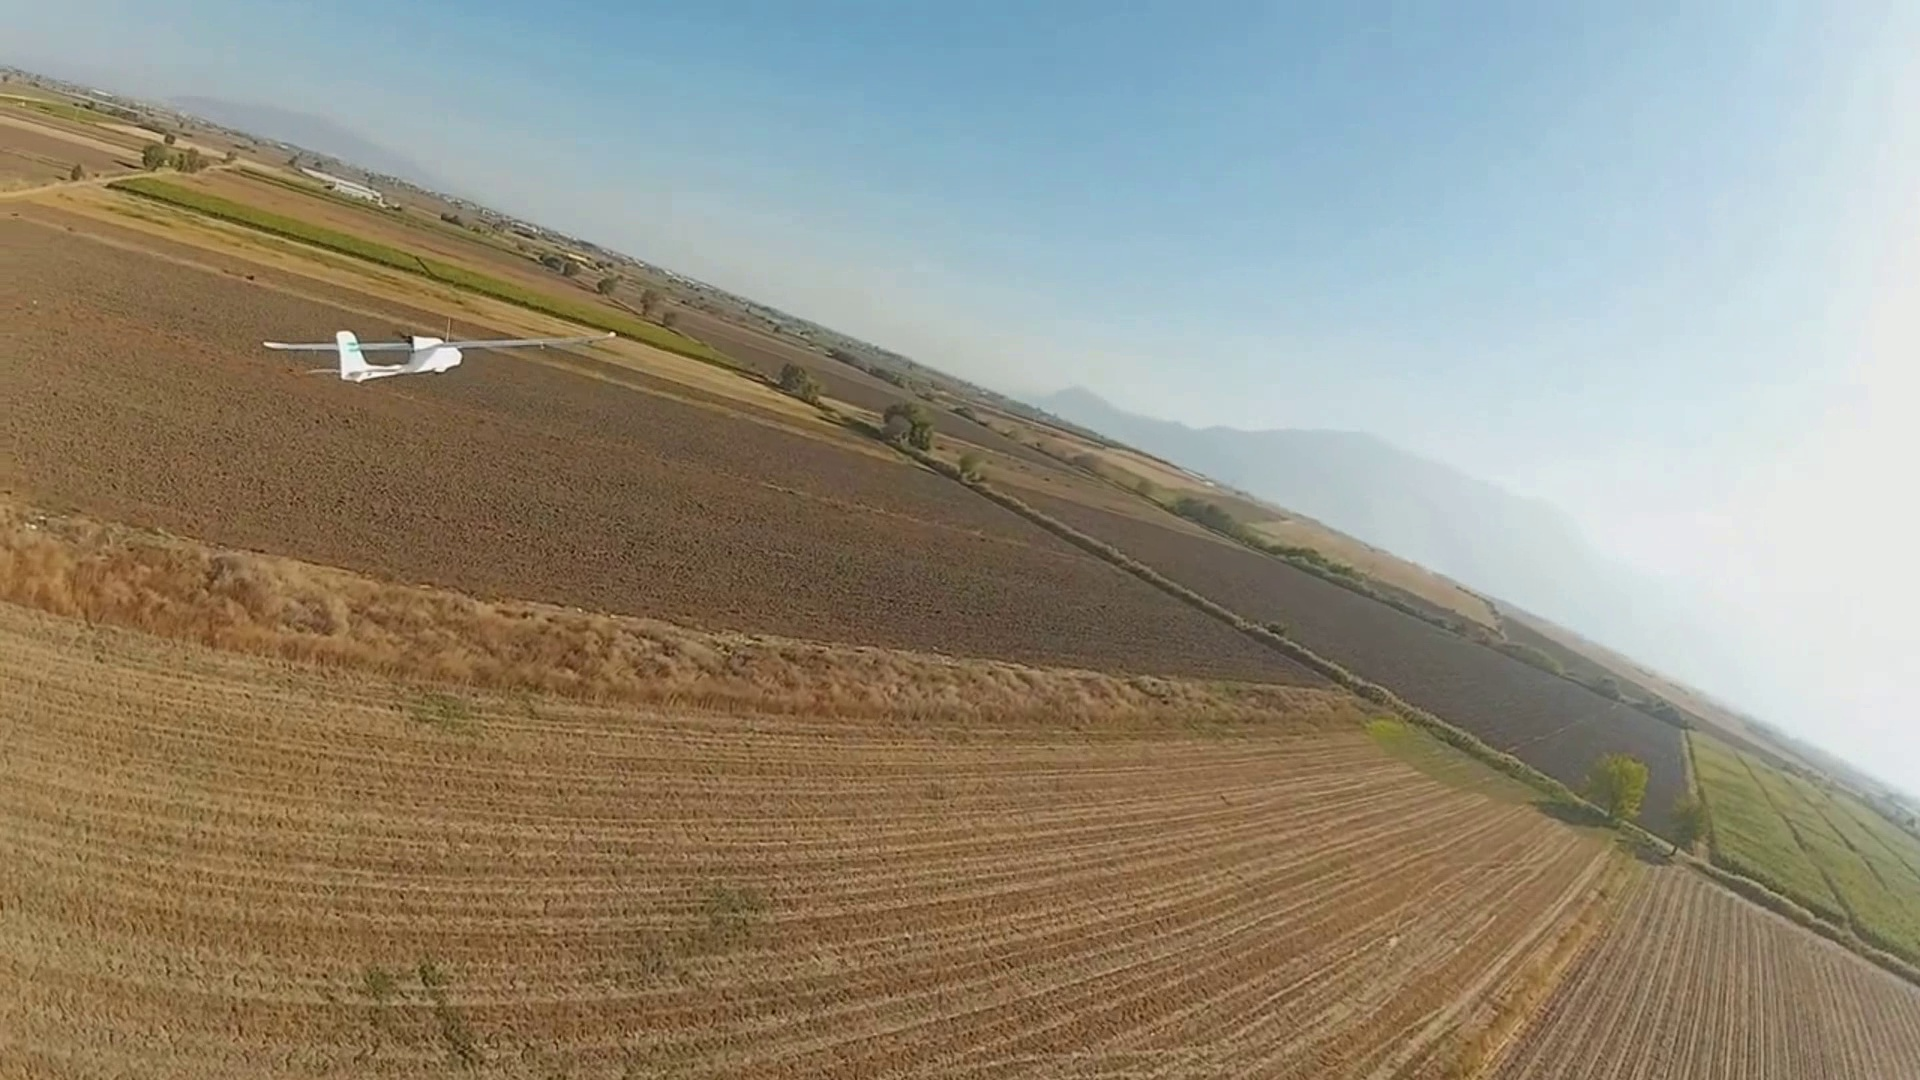airplane: (32, 152, 1920, 982), (262, 327, 462, 378)
